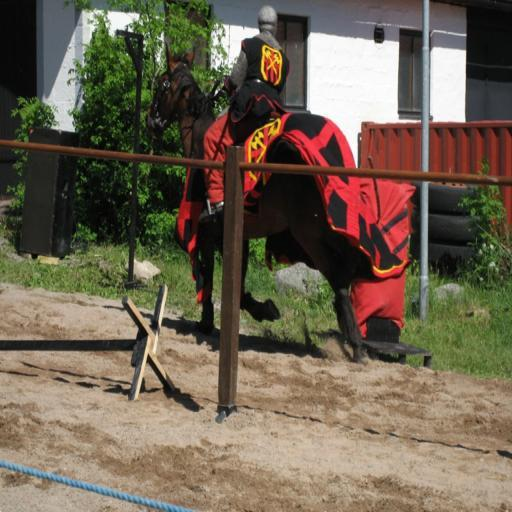Horse: (142, 40, 362, 364)
